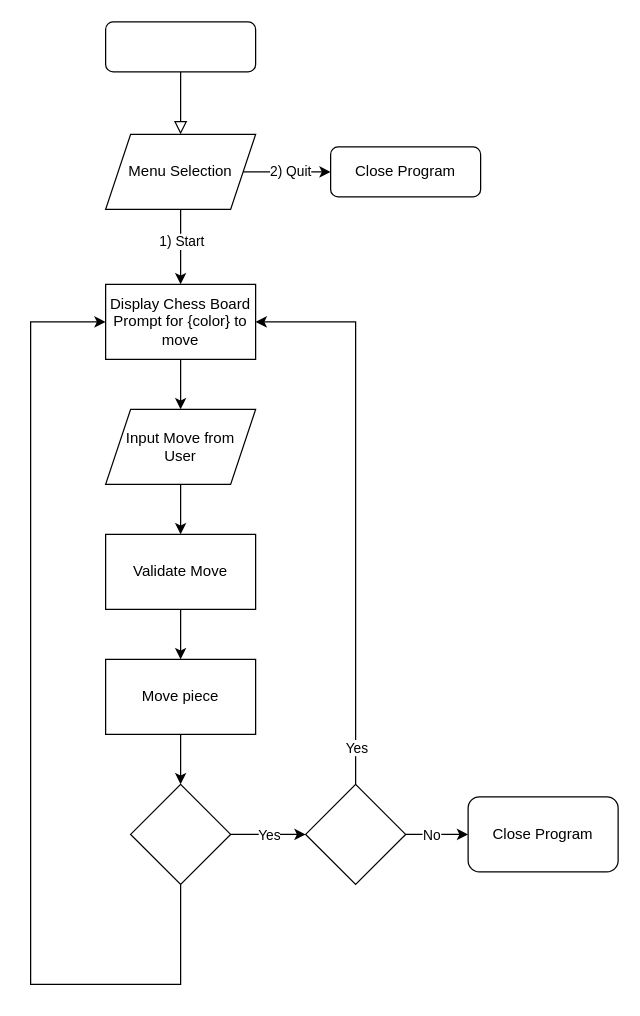
Image size: 640x1016. Some labels were removed from this diagram. Here are the shapes that lost their labels. From the top down, the centre of each, then its label:
At [180,46]: "Display Menu".
At [180,833]: "Checkmate?".
At [355,833]: "Play Again?".
